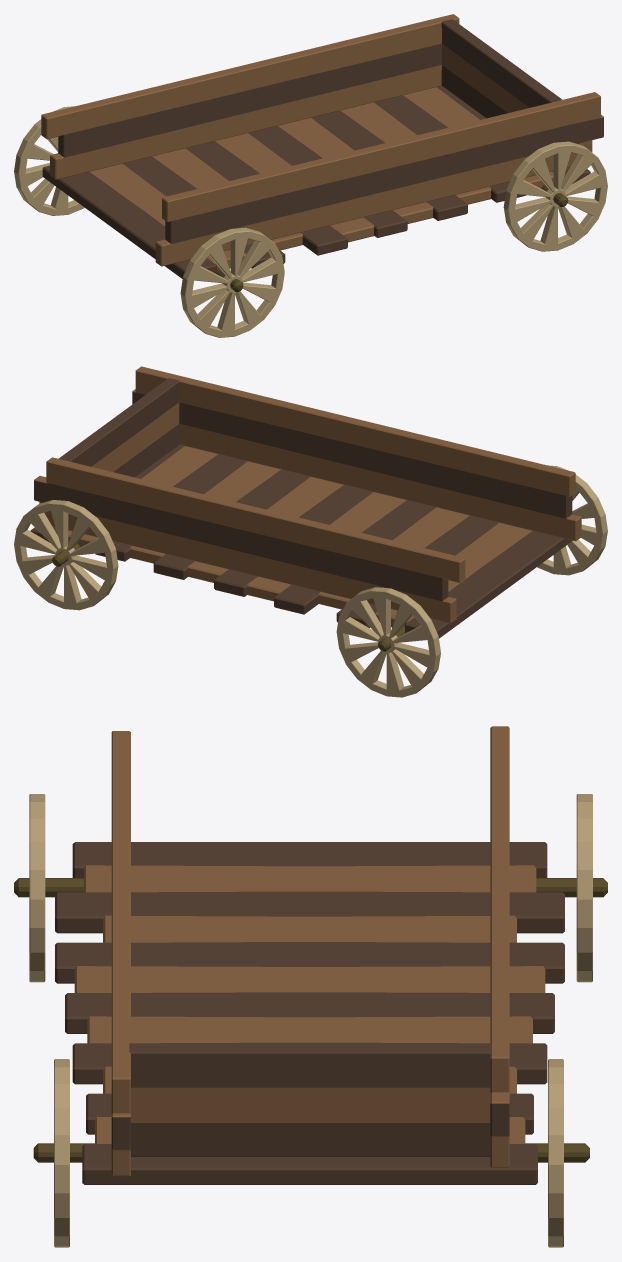
Rendered from scene_xGIIbhDSVe.glb.
The picture shows the model from 3 angles, top to bottom: view 1: azimuth 30°, elevation 25°; view 2: azimuth 150°, elevation 25°; view 3: azimuth 270°, elevation 25°; orthographic projection. The views are drawn at different scales.
Parts seen in each view (by area): view 1: Node; view 2: Node; view 3: Node.
Boxes of the visible parts, x1=… form: Node: x1=14, y1=14, x2=607, y2=337; Node: x1=14, y1=366, x2=607, y2=697; Node: x1=14, y1=726, x2=607, y2=1247.
Bounding box in the file's own units: 21.79 × 5.97 × 15.35.
